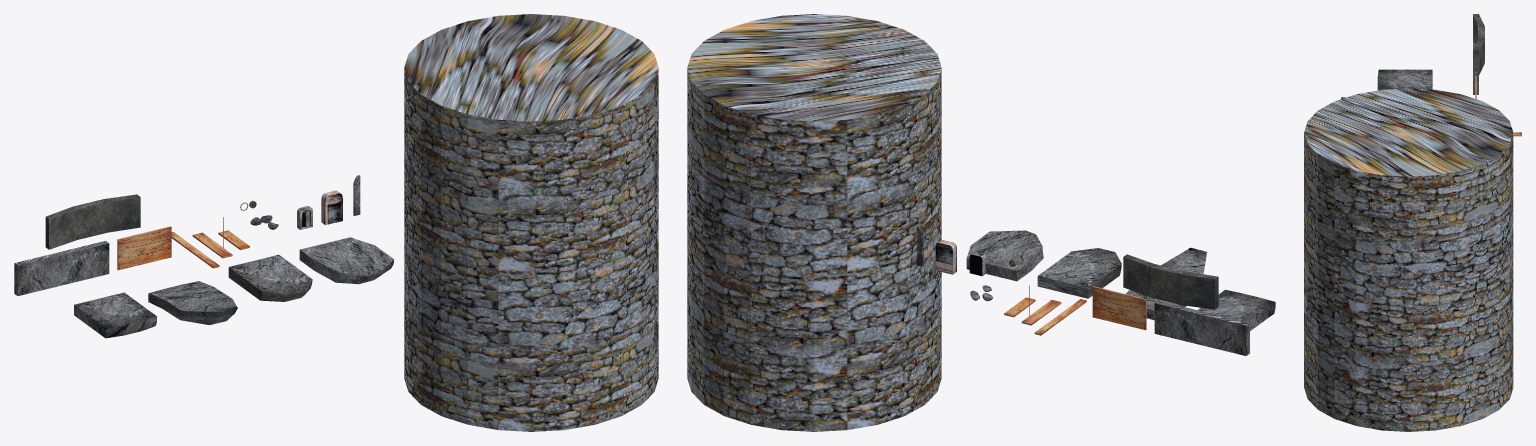
Rendered from tutorial assets.fbx.
The picture shows the model from 3 angles, left to right: view 1: azimuth 30°, elevation 25°; view 2: azimuth 150°, elevation 25°; view 3: azimuth 270°, elevation 25°; orthographic projection. The views are drawn at different scales.
Visible parts, largest first — view 1: Cylinder, Cube.011, Cube.010, Cube.001, Cube.002, Cube.003, Cube.008, Cube.009, Cube.007; view 2: Cylinder, Cube.011, Cube.010, Cube.002, Cube.001, Cube.009, Cube.008, Cube.003, Cube.007; view 3: Cylinder, Cube.008, Cube.011.
Part boxes in pixels (x1,y1,x2,y2): Cylinder: (404, 14, 658, 431); Cube.011: (45, 194, 140, 249); Cube.010: (14, 241, 109, 295); Cube.001: (299, 237, 393, 284); Cube.002: (228, 254, 312, 301); Cube.003: (148, 281, 237, 325); Cube.008: (74, 292, 157, 338); Cube.009: (117, 226, 171, 270); Cube.007: (321, 190, 342, 225); Cylinder: (687, 14, 941, 431); Cube.011: (1123, 254, 1218, 309); Cube.010: (1154, 300, 1249, 355); Cube.002: (1037, 248, 1121, 298); Cube.001: (966, 230, 1043, 281); Cube.009: (1092, 286, 1146, 330); Cube.008: (1197, 289, 1275, 330); Cube.003: (1126, 247, 1207, 320); Cube.007: (935, 240, 956, 274); Cylinder: (1304, 88, 1513, 431); Cube.008: (1377, 69, 1432, 90); Cube.011: (1473, 14, 1484, 75).
Size of the model in its own units: 17983 by 9121 by 7056.
Materials: 7 (7 with a texture image).
